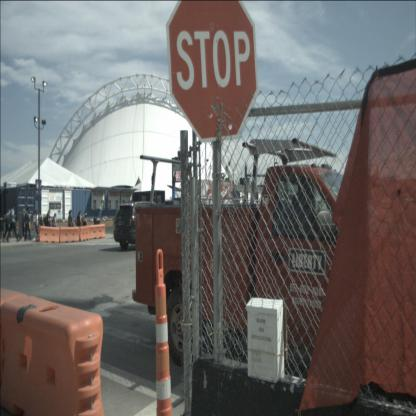human-pedestrian-adult: (6, 204, 21, 243), (2, 208, 14, 244), (32, 209, 44, 243), (43, 208, 53, 241), (24, 207, 33, 242), (20, 209, 29, 241), (68, 209, 76, 241), (75, 210, 83, 241), (82, 210, 88, 240), (51, 213, 57, 241)
movable_object-barrier: (0, 286, 105, 416), (38, 226, 60, 243), (59, 227, 80, 242), (90, 224, 106, 240), (78, 225, 91, 241)
movable_object-trafficcone: (144, 249, 180, 416)
vehicle-car: (113, 201, 168, 250)
vehicle-truck: (132, 165, 400, 379)
